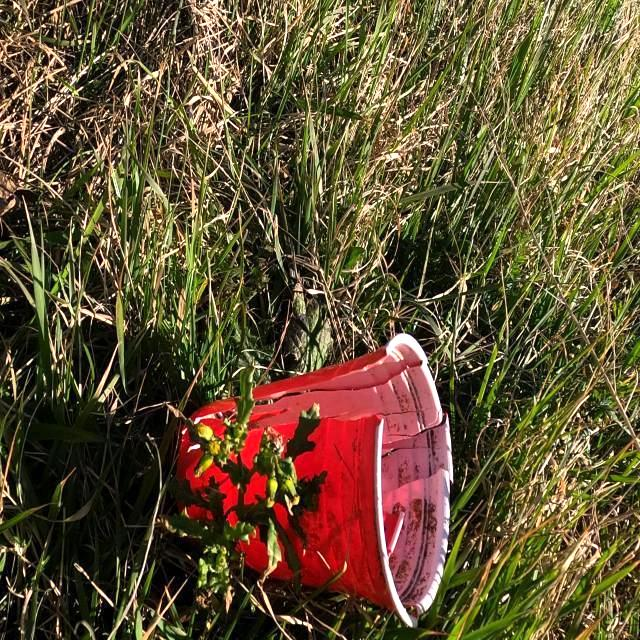Coffee Cup: (172, 324, 456, 632)
